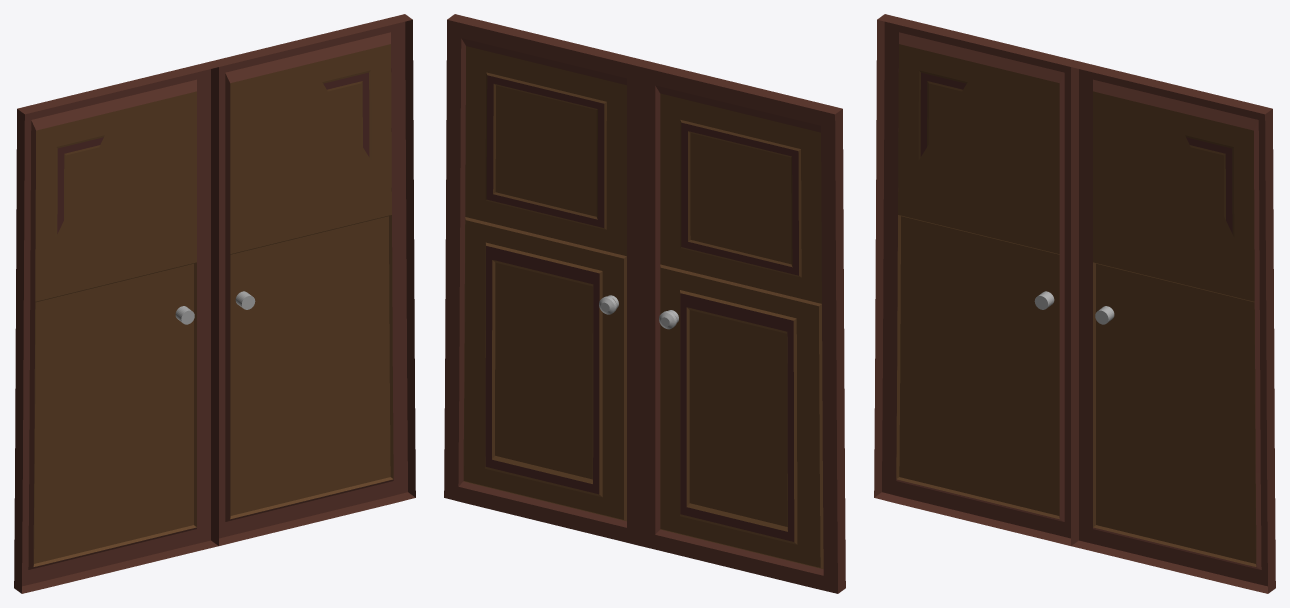
File: DOORRR.fbx
3 renders of one model, left to right at view 1: azimuth 30°, elevation 25°; view 2: azimuth 150°, elevation 25°; view 3: azimuth 330°, elevation 25°, orthographic.
Visible parts, largest first — view 1: Base.001; view 2: Base.001; view 3: Base.001.
Boxes of the visible parts, left/top/right/bottom form: Base.001: left=14, top=14, right=415, bottom=593; Base.001: left=444, top=14, right=845, bottom=593; Base.001: left=874, top=14, right=1275, bottom=593.
Size of the model in its own units: 19.71 by 22.91 by 1.18.
